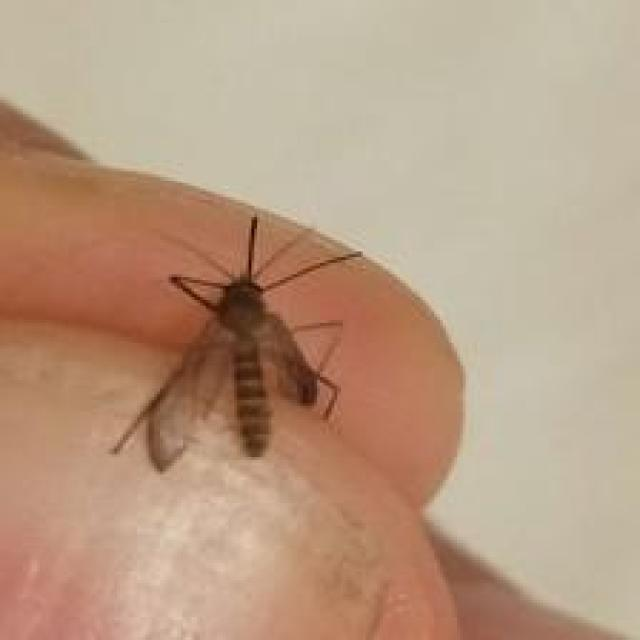Culex: (107, 212, 364, 474)
